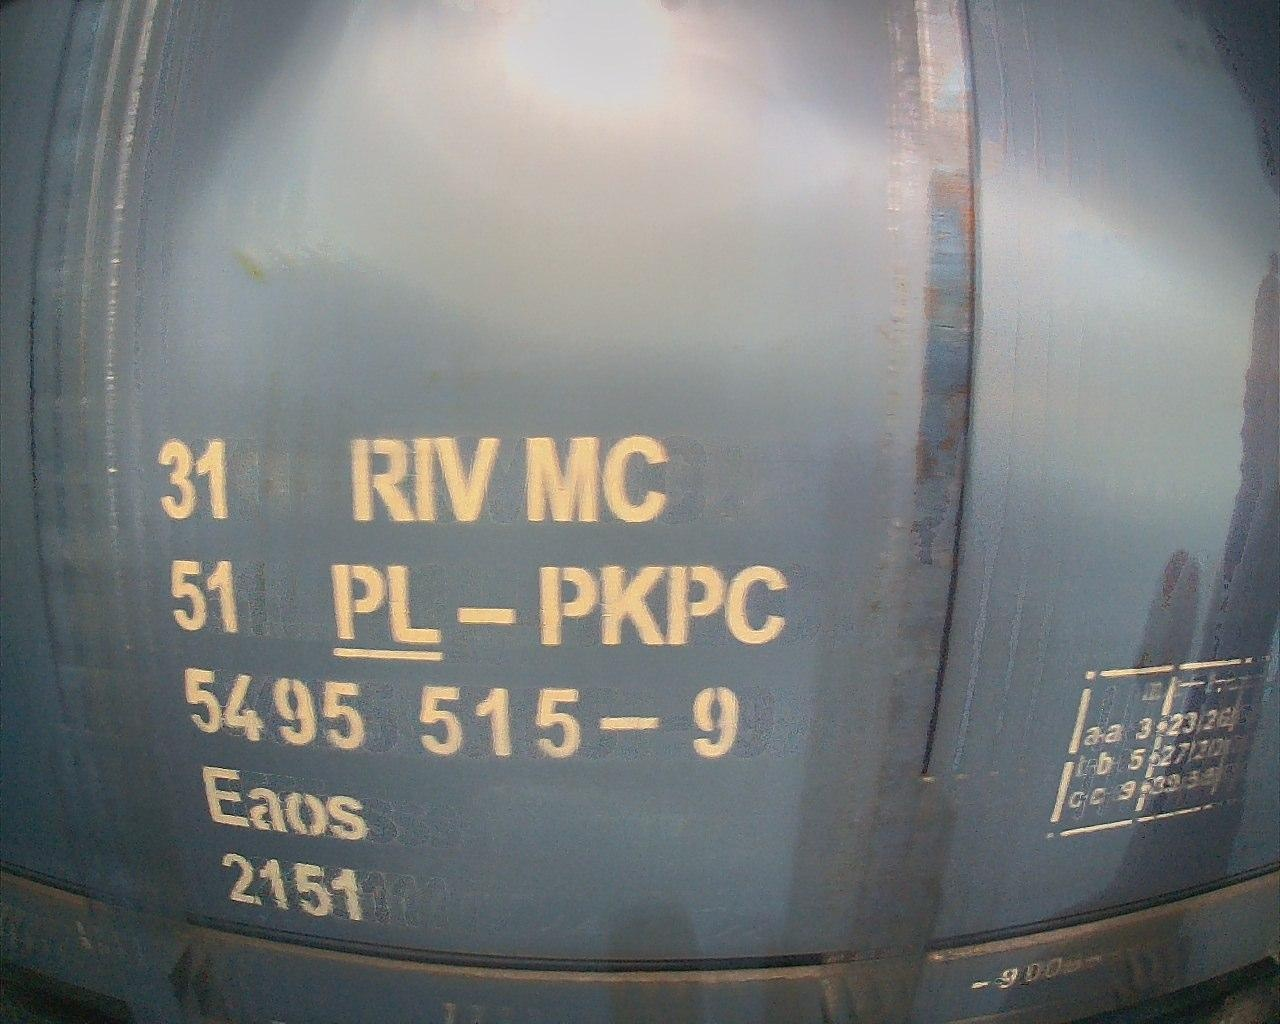UIC: (154, 430, 793, 925)
